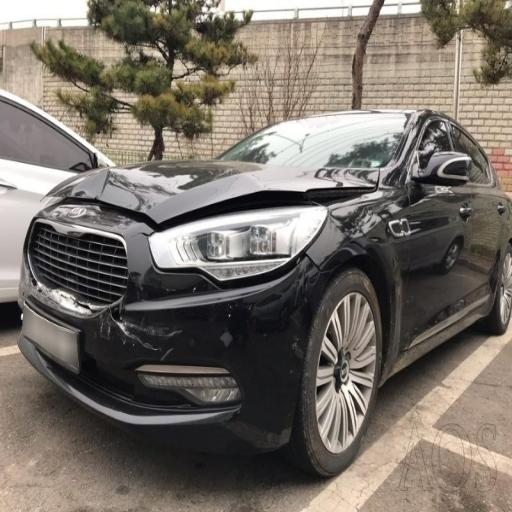dent: (92, 158, 254, 218)
scratch: (94, 294, 205, 379)
